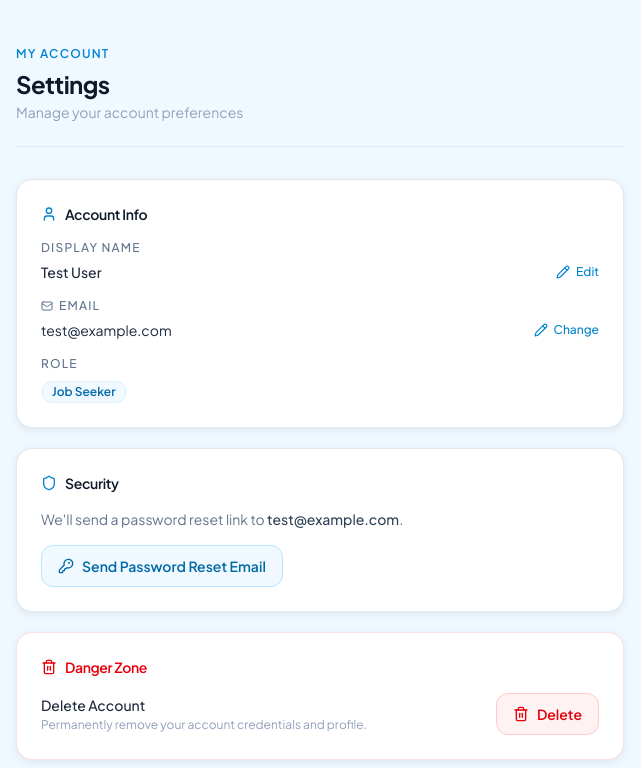
Scenario: SettingsPage › shows confirmation panel when Delete is clicked
The width and height of the screenshot is (641, 768).
Click the button "Delete": (547, 714) [496,693,599,735]
(page scrolled)
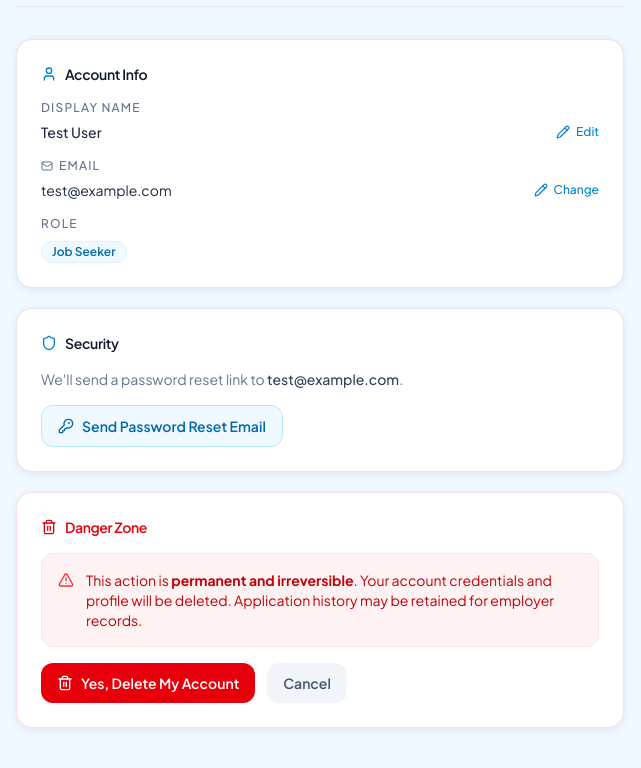
Result: the button "Yes, Delete My Account" is shown at [41,663,255,703]
Result: the button "Cancel" is shown at [267,663,347,703]
